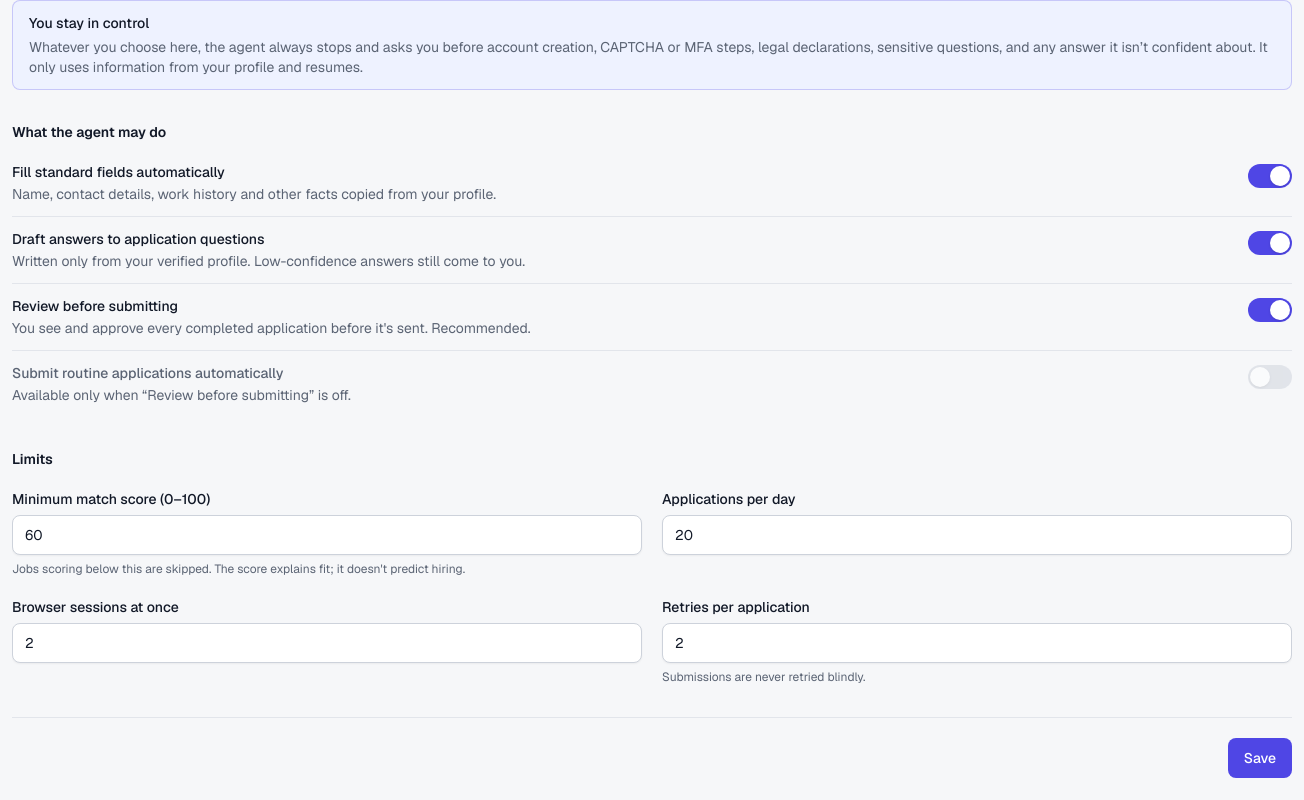
Test: AgentSettingsForm › only allows automatic submission once review-before-submit is off
Expected: the 4th switch named "submit routine applications" is disabled, [1248,365,1292,389]
Click the 3rd switch named "review before submitting".
click(1270, 310)  # box [1248,298,1292,322]
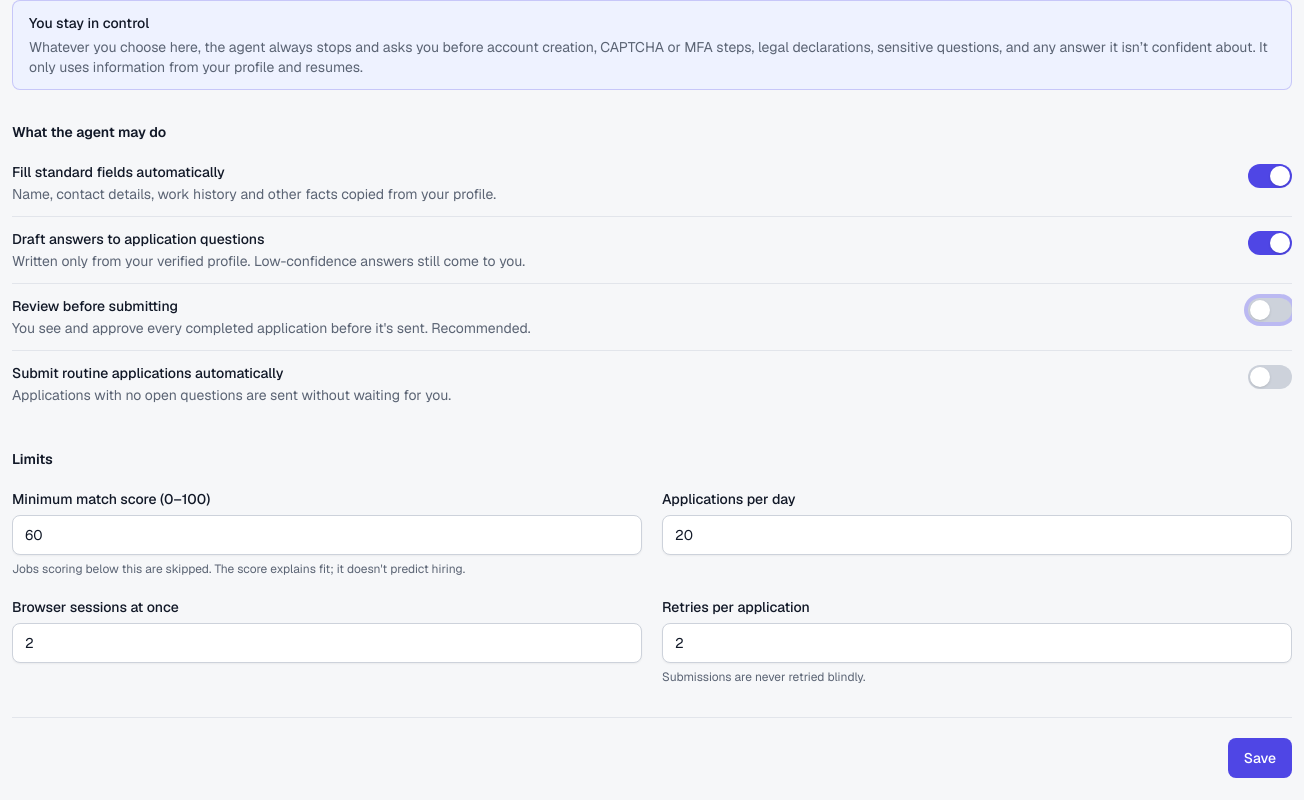
Expected: the 4th switch named "submit routine applications" is enabled
Click the 4th switch named "submit routine applications".
click(1270, 377)  # box [1248,365,1292,389]
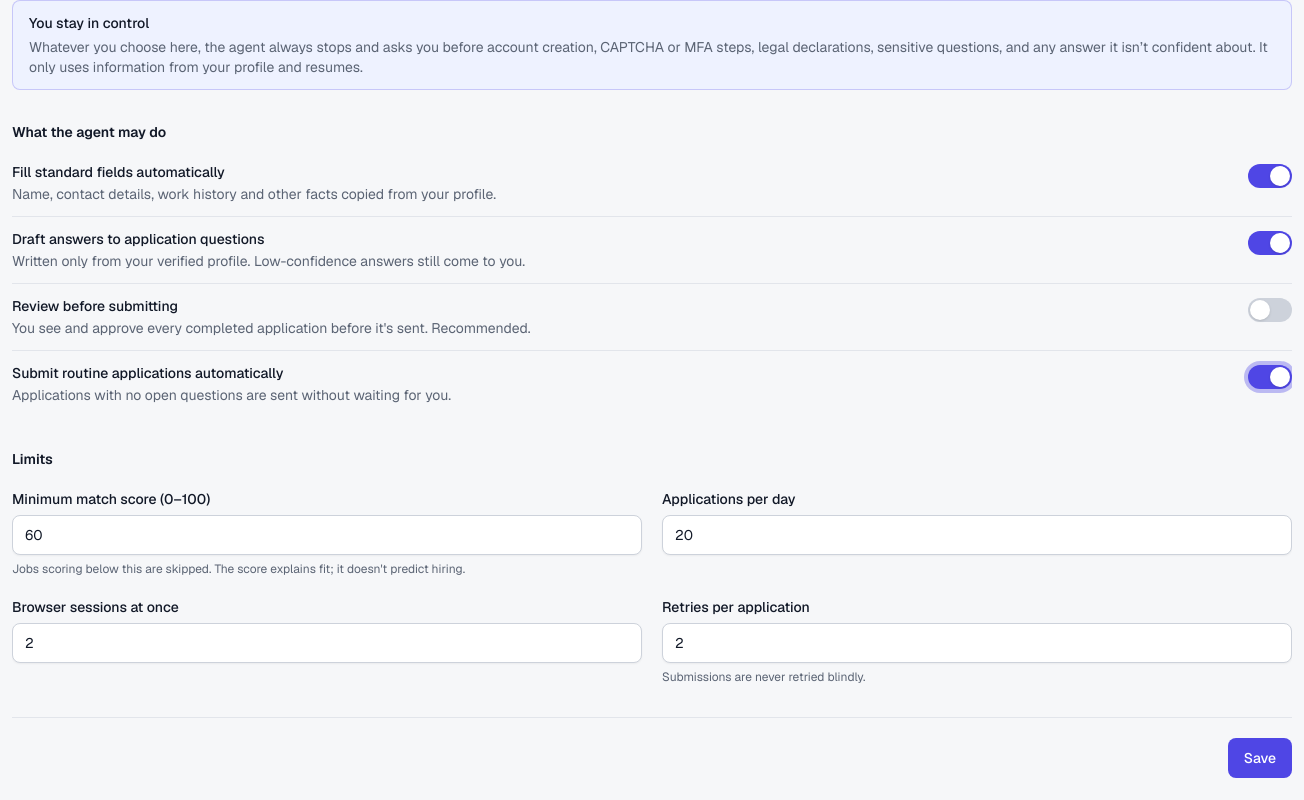
Expected: the 4th switch named "submit routine applications" is checked, [1248,365,1292,389]
# Turning review back on switches automatic submission off again.
Click the switch named "review before submitting" in the row of "Review before submitting".
click(1270, 310)  # box [1248,298,1292,322]
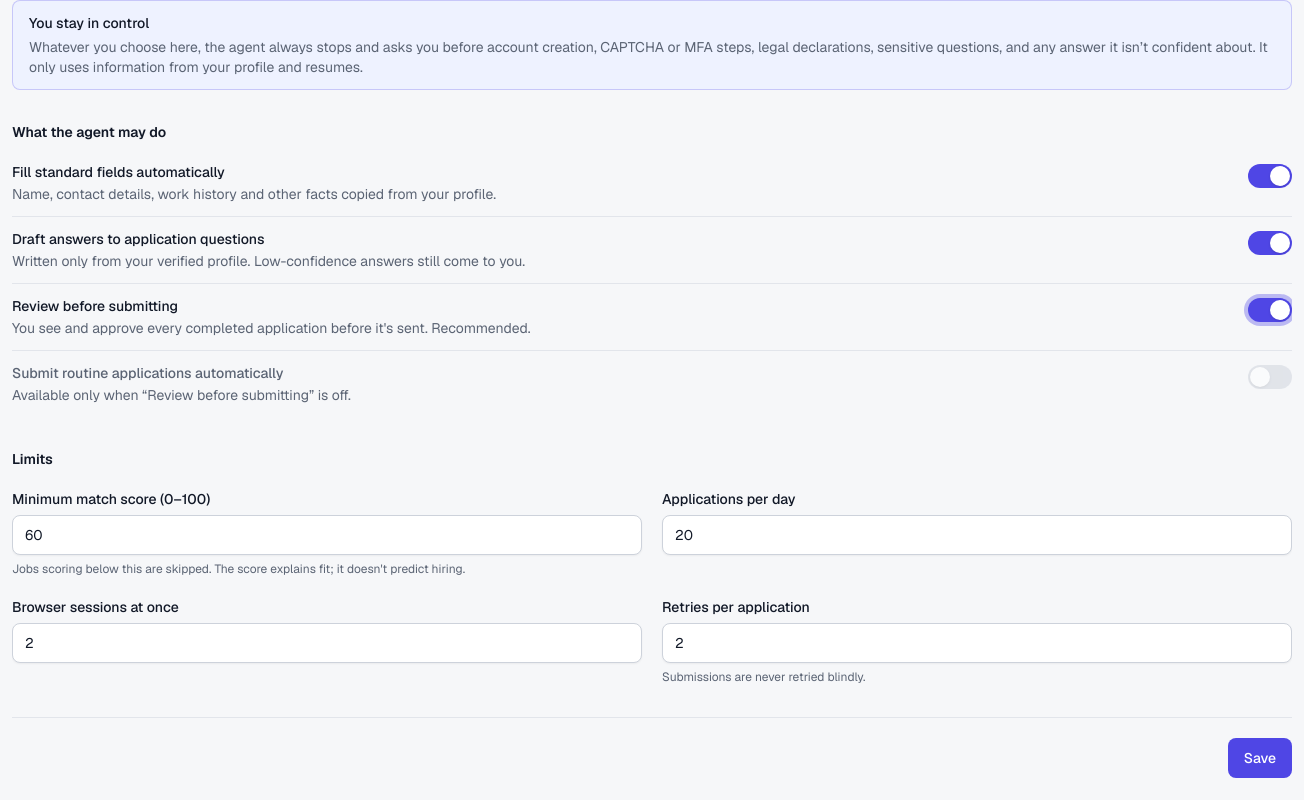
Expected: the 4th switch named "submit routine applications" is disabled, [1248,365,1292,389]
